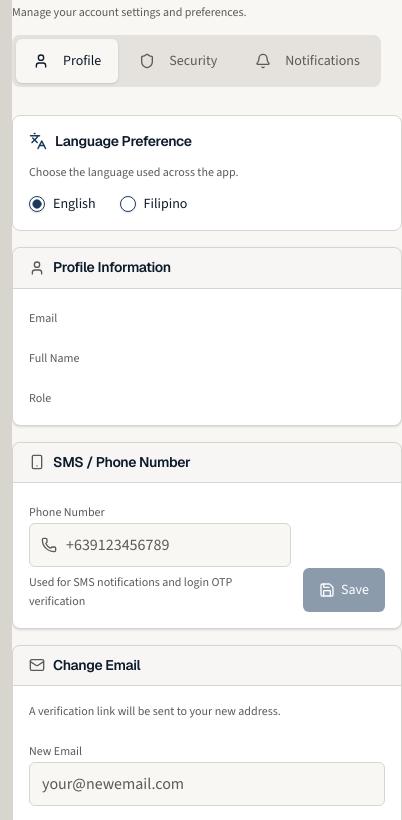
Scenario: SettingsPage › renders the reminder settings card with the worker overrides
Click the tab "Notifications" at (308, 60), box x1=238 y1=38 x2=377 y2=82
(page scrolled)
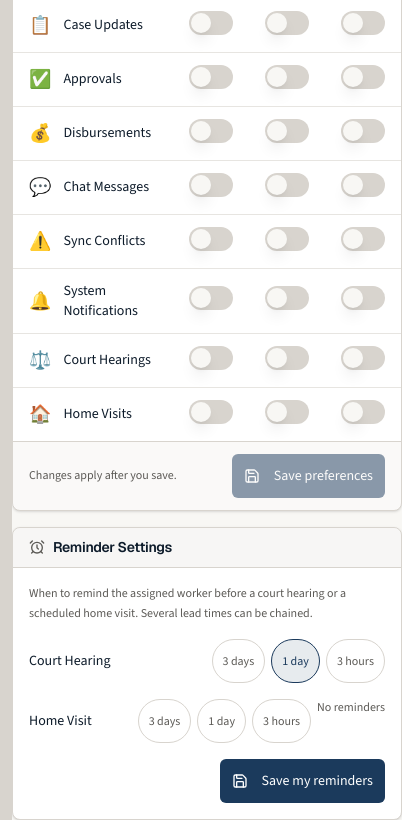
Result: the heading "Reminder Settings" is shown at x1=53 y1=538 x2=172 y2=557
Result: the text "Court Hearing" is shown at x1=29 y1=651 x2=110 y2=671
Result: the text "Home Visit" is shown at x1=29 y1=711 x2=92 y2=731
